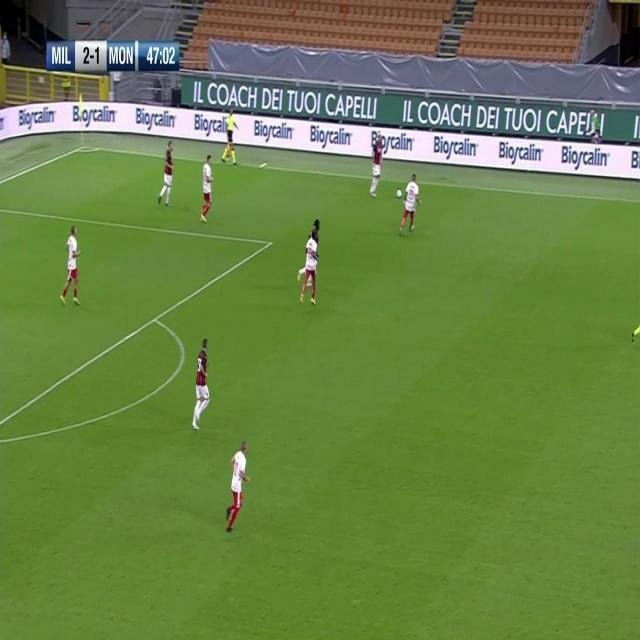ball: (395, 187, 403, 200)
player: (223, 441, 251, 535), (190, 336, 213, 432), (297, 209, 325, 284), (300, 230, 324, 316), (59, 224, 83, 308), (398, 173, 422, 235), (157, 140, 175, 208), (199, 153, 216, 225), (368, 130, 384, 198)
referee: (221, 106, 239, 167)
